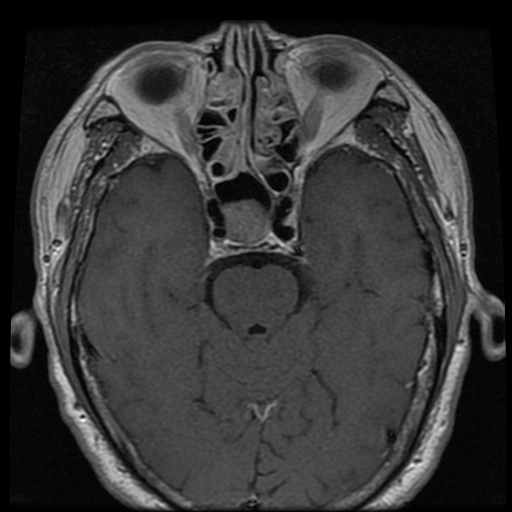pituitary: (222, 202, 270, 244)
